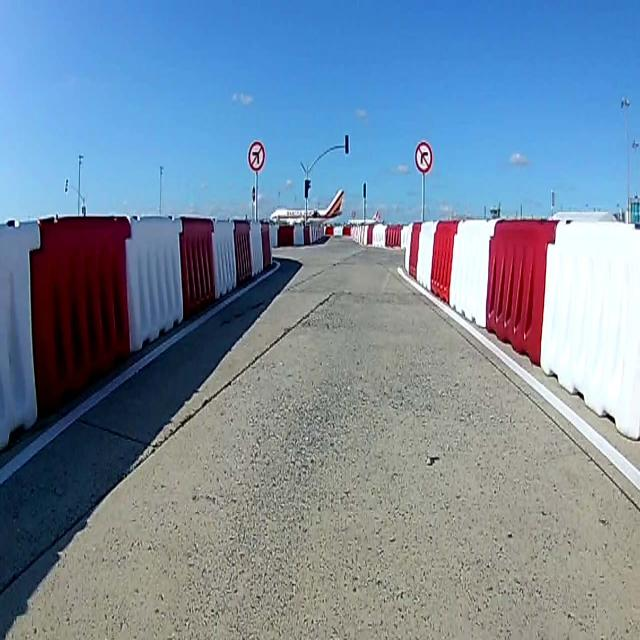sagadonulmez: (415, 140, 433, 172)
soladonulmez: (248, 139, 266, 170)
